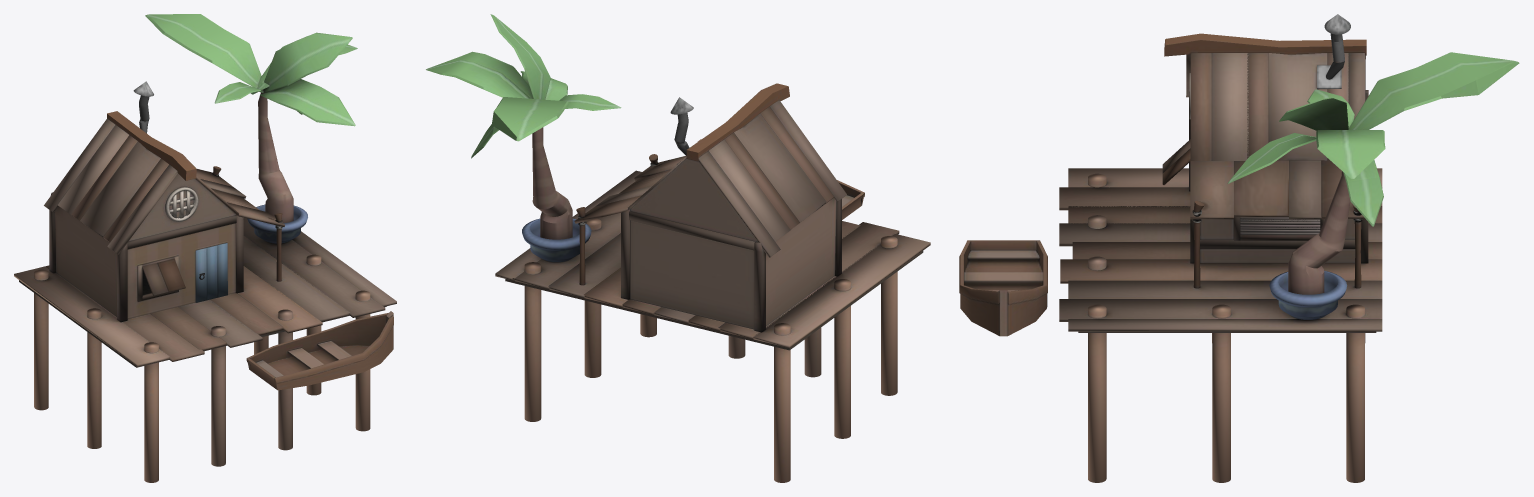
The model's file is cartoon_house.glb.
3 views of the same model, side by side, from view 1: azimuth 30°, elevation 25°; view 2: azimuth 150°, elevation 25°; view 3: azimuth 270°, elevation 25° (orthographic). The views are drawn at different scales.
Visible parts, largest first — view 1: Object_3, Object_2; view 2: Object_3, Object_2; view 3: Object_3, Object_2.
Boxes of the visible parts, bbox=[...] form: Object_3: bbox=[19, 14, 396, 482]; Object_2: bbox=[14, 81, 393, 390]; Object_3: bbox=[426, 14, 923, 482]; Object_2: bbox=[578, 83, 930, 348]; Object_3: bbox=[964, 33, 1519, 482]; Object_2: bbox=[959, 14, 1382, 336].
Size of the model in its own units: 5.28 by 4.87 by 6.09.
Materials: 1 (1 with a texture image).
